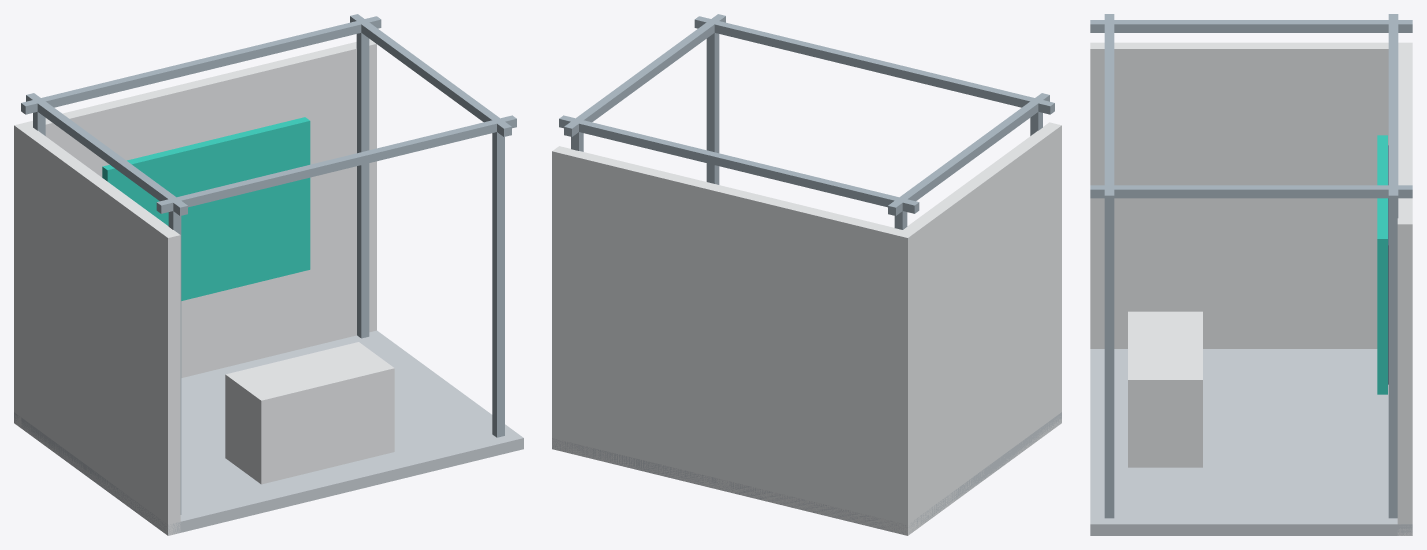
3 views of the same model, side by side, from view 1: azimuth 30°, elevation 25°; view 2: azimuth 150°, elevation 25°; view 3: azimuth 270°, elevation 25° (orthographic). The views are drawn at different scales.
Visible parts, largest first — view 1: Exhibition Booth Concept; view 2: Exhibition Booth Concept; view 3: Exhibition Booth Concept.
Boxes of the visible parts, x1,y1,x2,y2 form: Exhibition Booth Concept: (14,14,523,535); Exhibition Booth Concept: (552,14,1061,535); Exhibition Booth Concept: (1090,14,1412,535).
Bounding box in the file's own units: 4 × 3.49 × 3.
